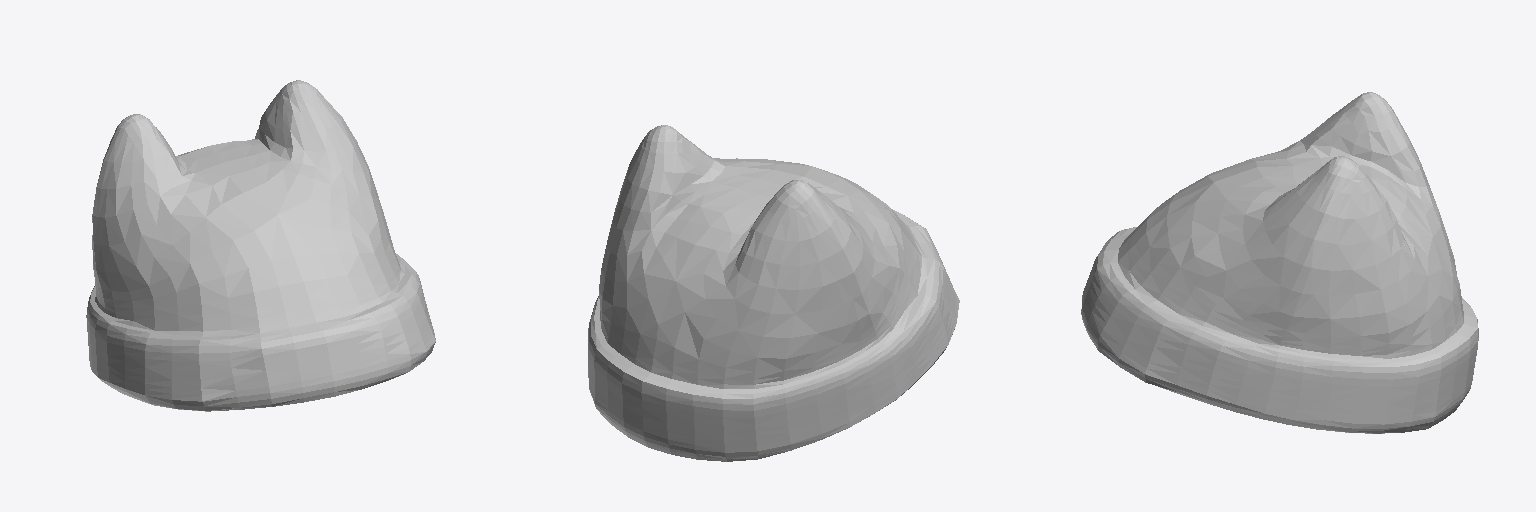
The model's file is hat.obj.
The picture shows the model from 3 angles: view 1: azimuth 30°, elevation 25°; view 2: azimuth 150°, elevation 25°; view 3: azimuth 270°, elevation 25°; orthographic projection.
Visible parts, largest first — view 1: Baby_Hat_01; view 2: Baby_Hat_01; view 3: Baby_Hat_01.
Boxes of the visible parts, x1,y1,x2,y2 form: Baby_Hat_01: [86, 80, 435, 411]; Baby_Hat_01: [588, 125, 959, 461]; Baby_Hat_01: [1081, 92, 1478, 433].
Bounding box in the file's own units: 0.2212 × 0.1912 × 0.2564.